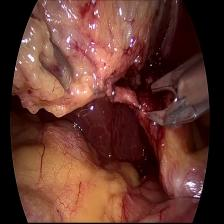Clipper: (139, 49, 206, 138)
Grasper: (33, 24, 79, 101)
